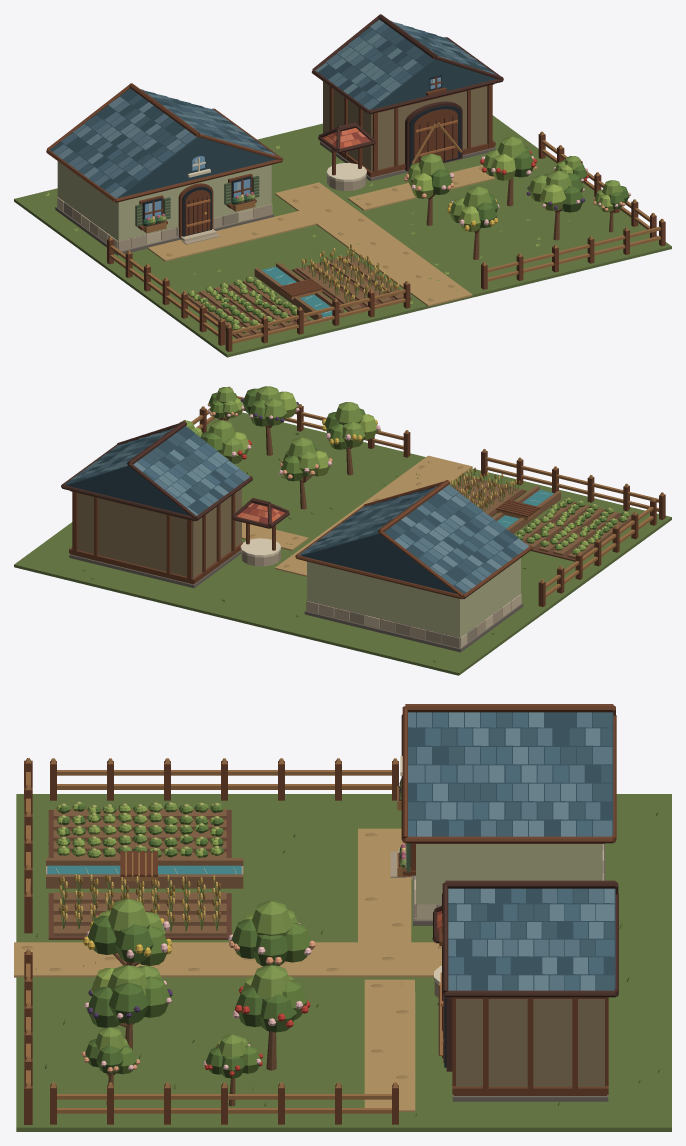
The model's file is farm-nivel-4.glb.
The picture shows the model from 3 angles, top to bottom: view 1: azimuth 30°, elevation 25°; view 2: azimuth 150°, elevation 25°; view 3: azimuth 270°, elevation 25°; orthographic projection. The views are drawn at different scales.
Visible parts, largest first — view 1: Fazenda 04 #677a42, Fazenda 04 #70432c, Fazenda 04 #344d58, Fazenda 04 #bc9a64, Fazenda 04 #9f7145, Fazenda 04 #b5b78c, Fazenda 04 #8c795a, Fazenda 04 #886345, Fazenda 04 #637f89, Fazenda 04 #3f5a65, Fazenda 04 #4c3028, Fazenda 04 #7a9448 (+15 smaller); view 2: Fazenda 04 #677a42, Fazenda 04 #344d58, Fazenda 04 #70432c, Fazenda 04 #b5b78c, Fazenda 04 #8c795a, Fazenda 04 #7a9448, Fazenda 04 #637f89, Fazenda 04 #3f5a65, Fazenda 04 #55717e, Fazenda 04 #9f7145, Fazenda 04 #886345, Fazenda 04 #bc9a64 (+14 smaller); view 3: Fazenda 04 #677a42, Fazenda 04 #bc9a64, Fazenda 04 #70432c, Fazenda 04 #344d58, Fazenda 04 #8c795a, Fazenda 04 #886345, Fazenda 04 #567337, Fazenda 04 #9f7145, Fazenda 04 #637f89, Fazenda 04 #55717e, Fazenda 04 #3f5a65, Fazenda 04 #b5b78c (+16 smaller).
Boxes of the visible parts, x1,y1,x2,y2 form: Fazenda 04 #677a42: (14,115,671,357); Fazenda 04 #70432c: (46,77,665,351); Fazenda 04 #344d58: (50,23,496,197); Fazenda 04 #bc9a64: (148,165,537,306); Fazenda 04 #9f7145: (108,122,664,343); Fazenda 04 #b5b78c: (57,161,271,241); Fazenda 04 #8c795a: (323,81,487,171); Fazenda 04 #886345: (188,255,403,337); Fazenda 04 #637f89: (58,19,476,198); Fazenda 04 #3f5a65: (63,25,481,186); Fazenda 04 #4c3028: (146,14,503,234); Fazenda 04 #7a9448: (74,136,622,333); Fazenda 04 #677a42: (14,412,671,675); Fazenda 04 #344d58: (66,426,523,593); Fazenda 04 #70432c: (69,406,665,606); Fazenda 04 #b5b78c: (307,558,520,637); Fazenda 04 #8c795a: (77,488,241,578); Fazenda 04 #7a9448: (179,386,629,634); Fazenda 04 #637f89: (71,428,529,588); Fazenda 04 #3f5a65: (64,429,514,584); Fazenda 04 #55717e: (81,436,512,592); Fazenda 04 #9f7145: (183,386,664,597); Fazenda 04 #886345: (452,476,631,558); Fazenda 04 #bc9a64: (242,455,472,576); Fazenda 04 #677a42: (16,794,671,1131); Fazenda 04 #bc9a64: (14,828,441,1111); Fazenda 04 #70432c: (24,704,616,1124); Fazenda 04 #344d58: (408,712,615,990); Fazenda 04 #8c795a: (456,999,604,1086); Fazenda 04 #886345: (46,809,243,935); Fazenda 04 #567337: (59,803,296,1078); Fazenda 04 #9f7145: (25,758,442,1113); Fazenda 04 #637f89: (417,712,614,990); Fazenda 04 #55717e: (408,712,612,990); Fazenda 04 #3f5a65: (408,712,614,990); Fazenda 04 #b5b78c: (416,844,602,904).
Bounding box in the file's own units: 17.81 × 4.43 × 14.84.
